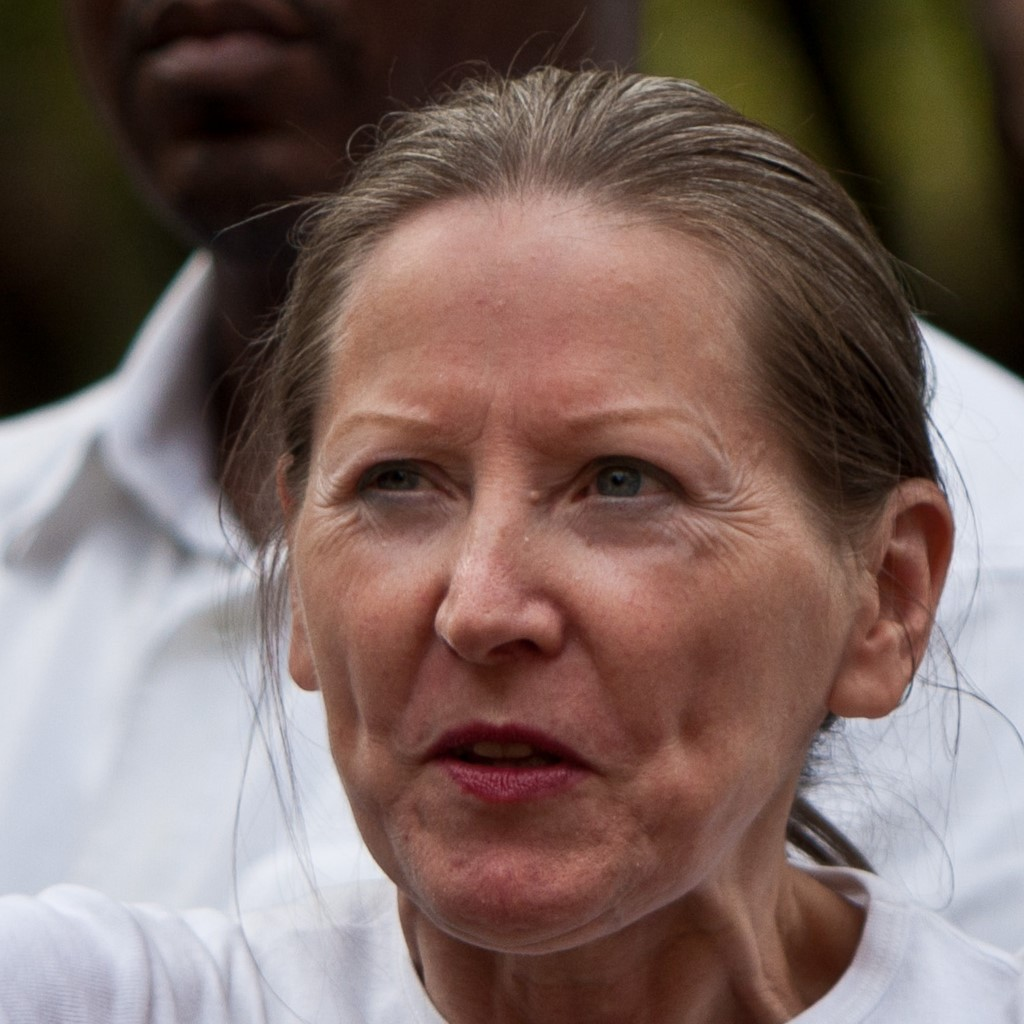sin_mascara: (311, 188, 856, 929)
